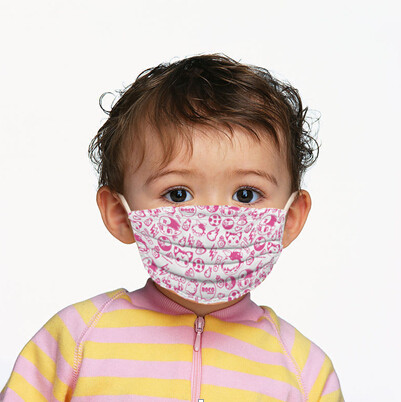face_mask: (129, 109, 286, 298)
